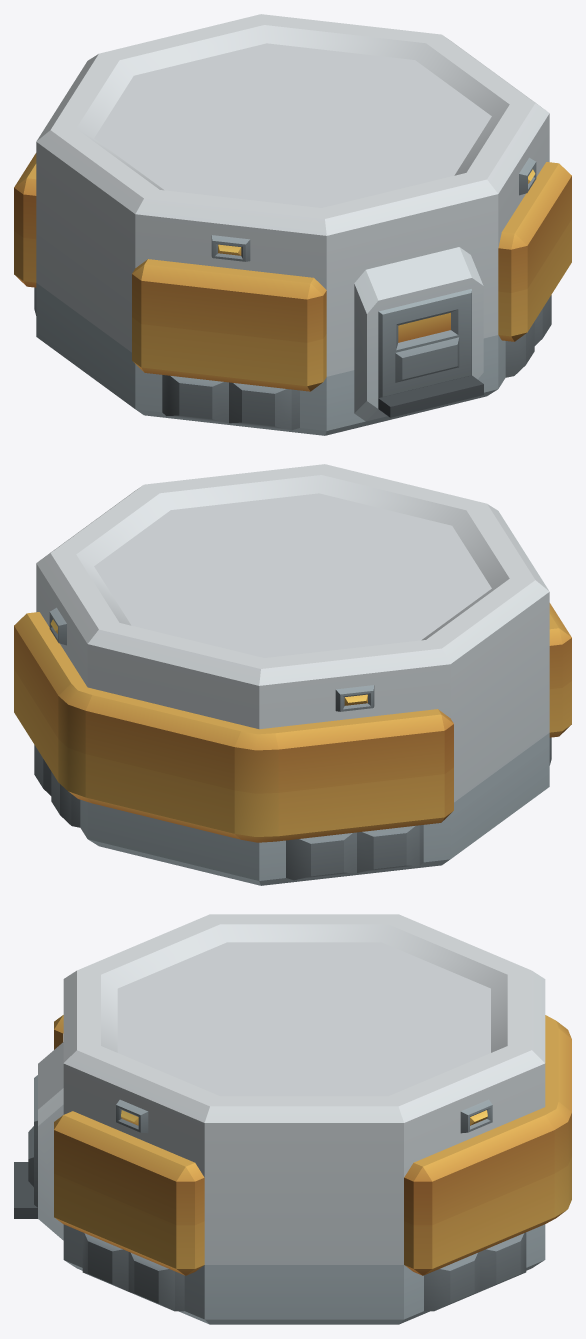
The model's file is basemodule_b.glb.
The picture shows the model from 3 angles, top to bottom: view 1: azimuth 30°, elevation 25°; view 2: azimuth 150°, elevation 25°; view 3: azimuth 270°, elevation 25°; orthographic projection.
Parts seen in each view (by area): view 1: basemodule_B; view 2: basemodule_B; view 3: basemodule_B.
Part boxes in pixels (left/top/right/bottom): basemodule_B: left=14, top=14, right=571, bottom=435; basemodule_B: left=14, top=464, right=571, bottom=885; basemodule_B: left=14, top=914, right=571, bottom=1324.
Size of the model in its own units: 6.24 by 3 by 6.95.
Materials: 1 (1 with a texture image).
